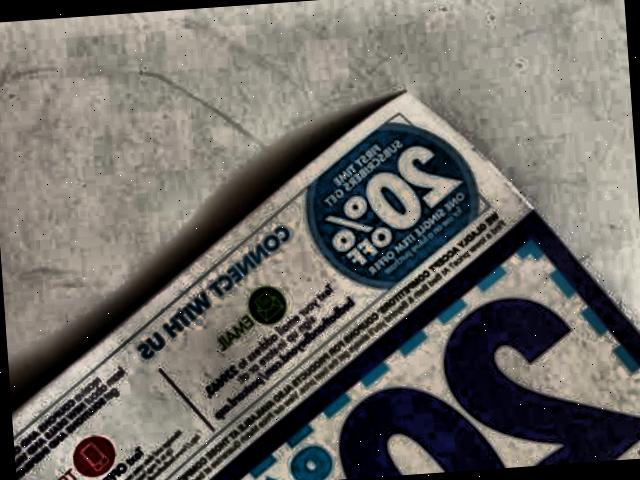Paper: (0, 71, 640, 480)
